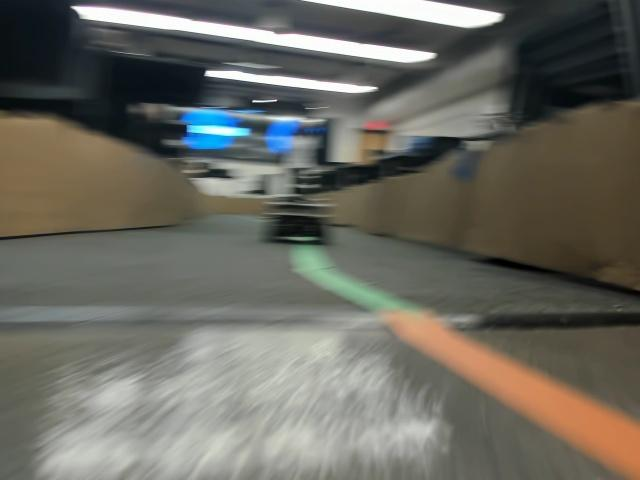Car: (263, 188, 332, 240)
